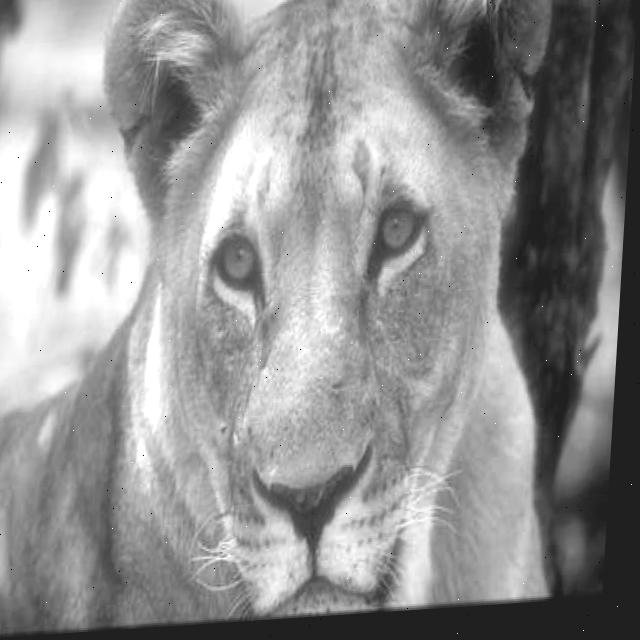Lion: (32, 0, 624, 635)
